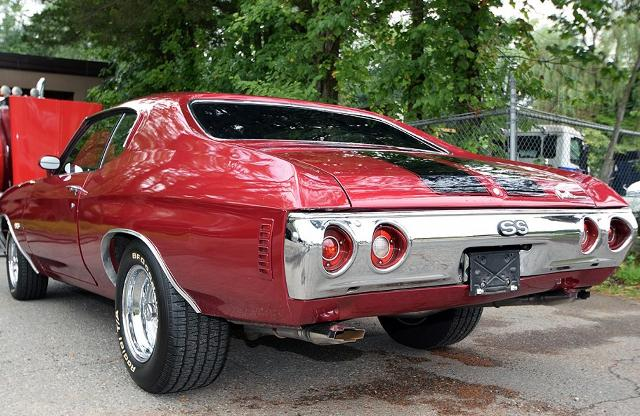chevelle-1972: (0, 93, 637, 393)
